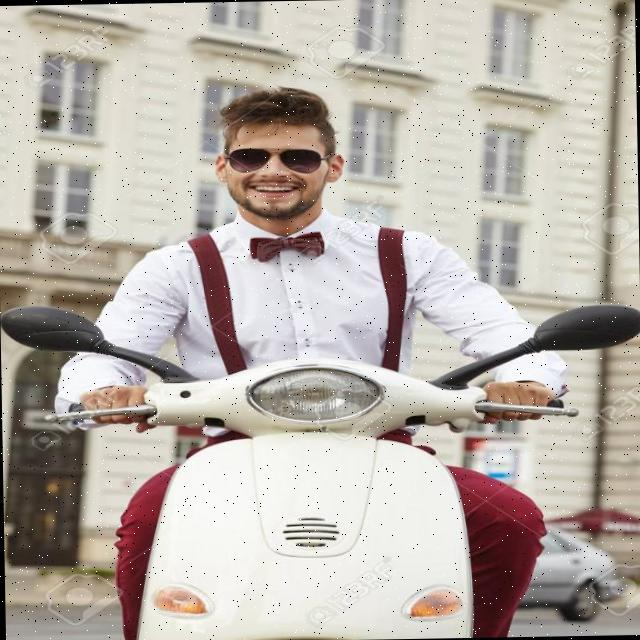No helmet: (208, 80, 343, 239)
